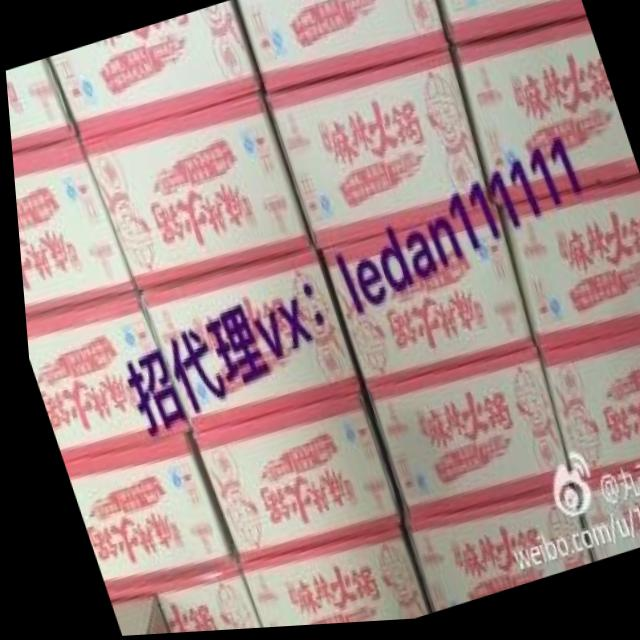box: (76, 99, 306, 292), (264, 56, 487, 251), (130, 253, 357, 436), (313, 213, 528, 393), (448, 22, 636, 209), (184, 399, 393, 567), (360, 358, 566, 526), (48, 3, 262, 139), (21, 291, 183, 461), (55, 437, 225, 593), (494, 188, 640, 359), (394, 496, 581, 615), (235, 0, 451, 98), (10, 144, 130, 320), (229, 531, 419, 630), (532, 337, 640, 494), (99, 564, 250, 635), (439, 0, 583, 51), (5, 61, 75, 154), (566, 479, 640, 565), (101, 598, 156, 637)
